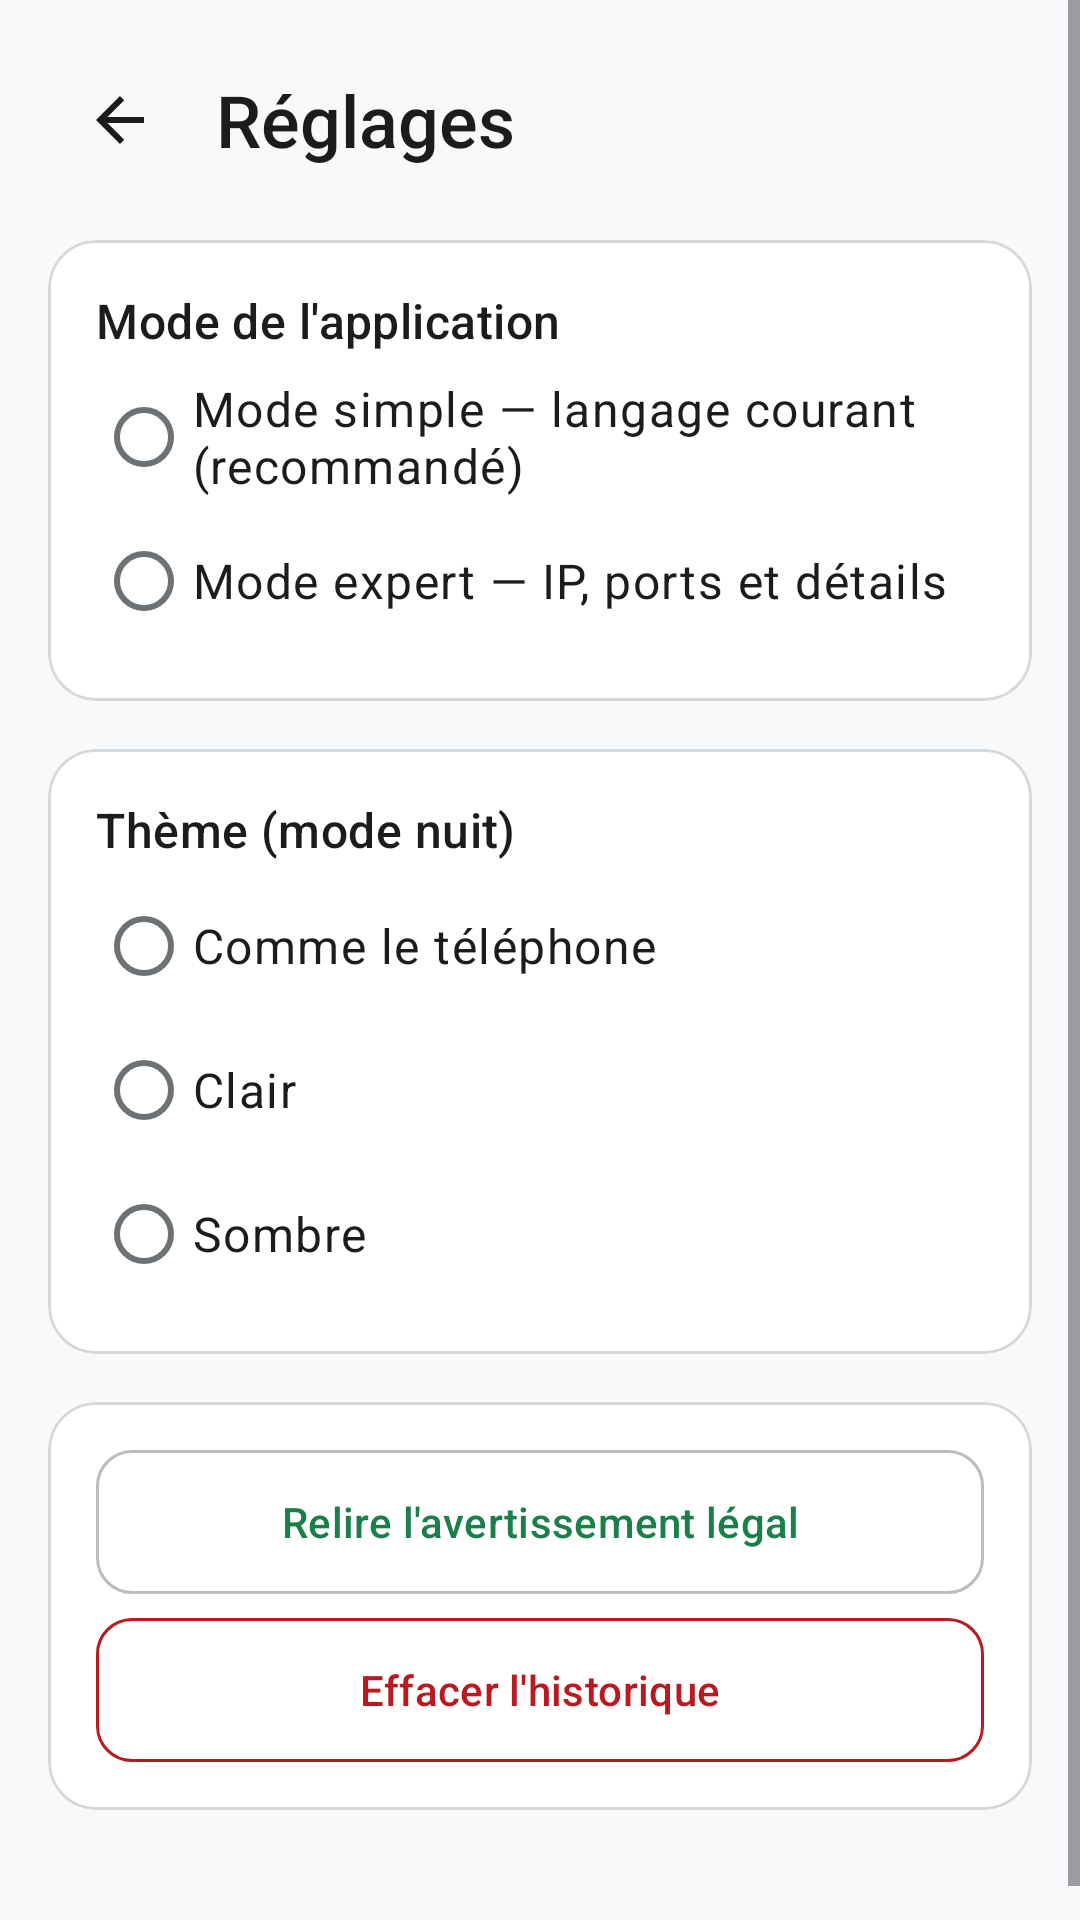

Named icons in this screenshot (1080w x 1920h) and their bounding boxes, (x1, y1, x2, y2):
Retour: (96, 96, 144, 144)
